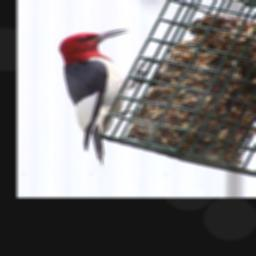Woodpecker: (58, 28, 148, 165)
